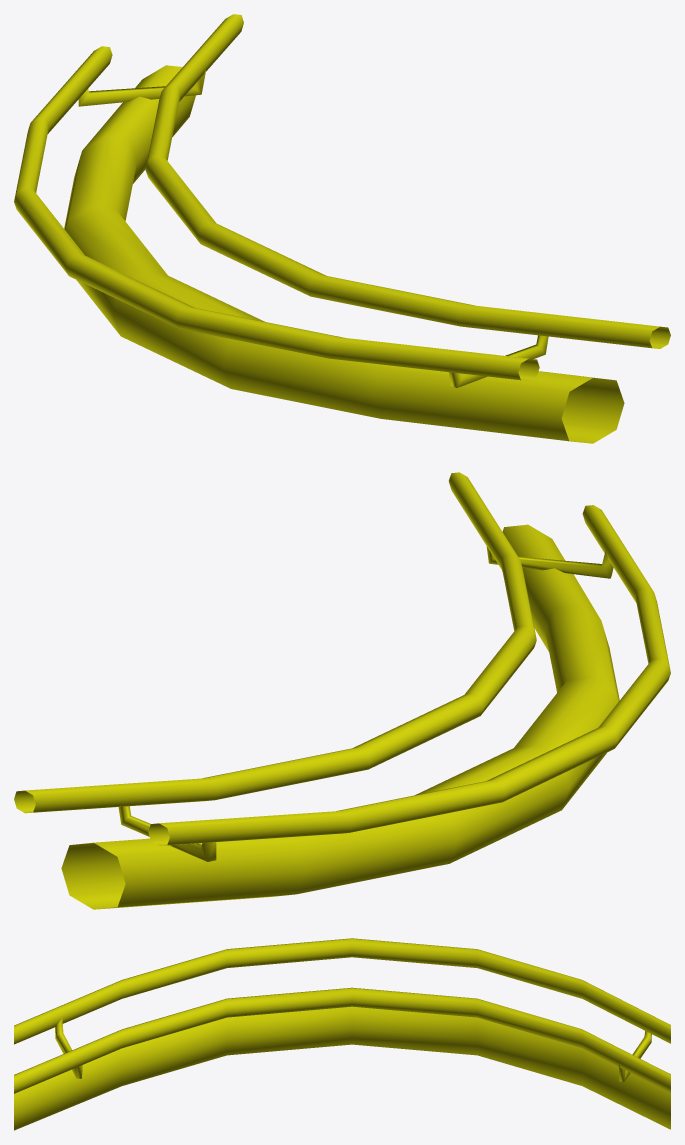
The picture shows the model from 3 angles, top to bottom: view 1: azimuth 30°, elevation 25°; view 2: azimuth 150°, elevation 25°; view 3: azimuth 270°, elevation 25°; orthographic projection. The views are drawn at different scales.
Visible parts, largest first — view 1: Mesh; view 2: Mesh; view 3: Mesh.
Boxes of the visible parts, x1,y1,x2,y2 form: Mesh: (14,14,670,443); Mesh: (14,472,670,909); Mesh: (14,938,670,1130).
Size of the model in its own units: 166 by 41.76 by 319.
